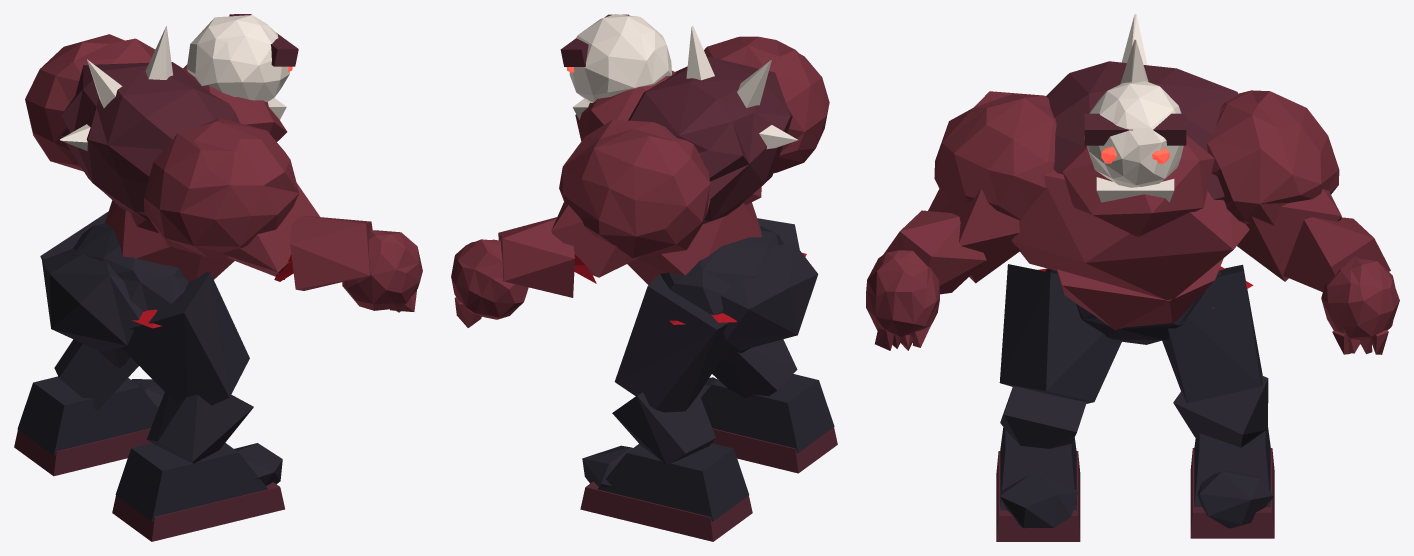
The model's file is inf.mega-alpha.lod2.glb.
The picture shows the model from 3 angles, left to right: view 1: azimuth 30°, elevation 25°; view 2: azimuth 150°, elevation 25°; view 3: azimuth 270°, elevation 25°; orthographic projection. The views are drawn at different scales.
Parts seen in each view (by area): view 1: torso, armR, footR, hip, footL, legR, head, armL, foreArmR, shinR, handR, shinL (+1 smaller); view 2: torso, armL, footL, hip, legL, footR, head, armR, handL, foreArmL, shinL, shinR (+1 smaller); view 3: torso, armL, armR, legR, head, legL, footL, footR, handR, handL, foreArmL, foreArmR (+3 smaller).
Part boxes in pixels (x1=…): torso: x1=60, y1=26, x2=287, y2=281; armR: x1=144, y1=118, x2=319, y2=279; footR: x1=112, y1=443, x2=284, y2=541; hip: x1=42, y1=223, x2=188, y2=352; footL: x1=14, y1=376, x2=164, y2=476; legR: x1=121, y1=272, x2=249, y2=405; head: x1=186, y1=14, x2=298, y2=119; armL: x1=25, y1=34, x2=155, y2=171; foreArmR: x1=290, y1=215, x2=372, y2=290; shinR: x1=146, y1=392, x2=253, y2=463; handR: x1=342, y1=230, x2=422, y2=312; shinL: x1=54, y1=339, x2=138, y2=410; torso: x1=575, y1=26, x2=798, y2=284; armL: x1=551, y1=119, x2=710, y2=277; footL: x1=580, y1=443, x2=752, y2=541; hip: x1=660, y1=226, x2=818, y2=350; legL: x1=614, y1=274, x2=730, y2=412; footR: x1=699, y1=374, x2=837, y2=473; head: x1=560, y1=14, x2=671, y2=119; armR: x1=704, y1=36, x2=829, y2=173; handL: x1=451, y1=239, x2=528, y2=327; foreArmL: x1=498, y1=217, x2=574, y2=297; shinL: x1=612, y1=392, x2=715, y2=465; shinR: x1=712, y1=339, x2=797, y2=398; torso: x1=1011, y1=14, x2=1249, y2=330; armL: x1=1207, y1=90, x2=1341, y2=281; armR: x1=928, y1=91, x2=1056, y2=283; legR: x1=999, y1=264, x2=1122, y2=403; head: x1=1084, y1=81, x2=1186, y2=202; legL: x1=1162, y1=264, x2=1262, y2=403; footL: x1=1190, y1=427, x2=1274, y2=538; footR: x1=996, y1=427, x2=1080, y2=541; handR: x1=866, y1=250, x2=939, y2=350; handL: x1=1321, y1=256, x2=1399, y2=354; foreArmL: x1=1283, y1=217, x2=1390, y2=291; foreArmR: x1=883, y1=210, x2=986, y2=294.
Size of the model in its own units: 1.51 by 2.57 by 2.62.
